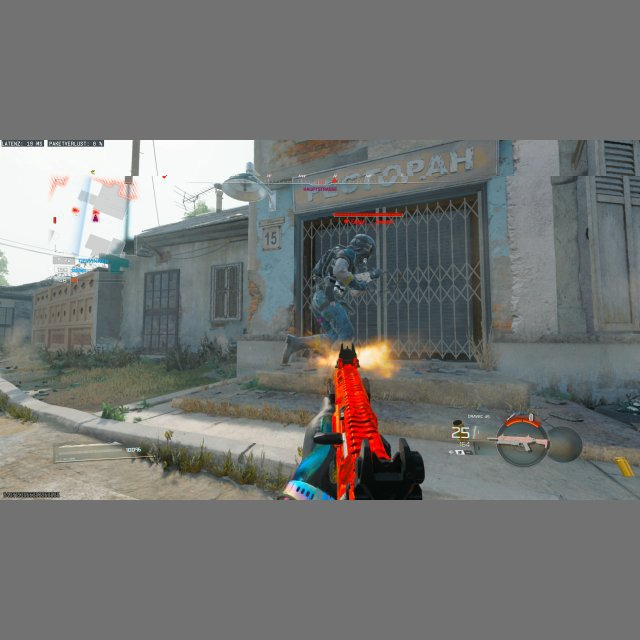head: (348, 234, 375, 262)
player: (306, 233, 379, 367)
